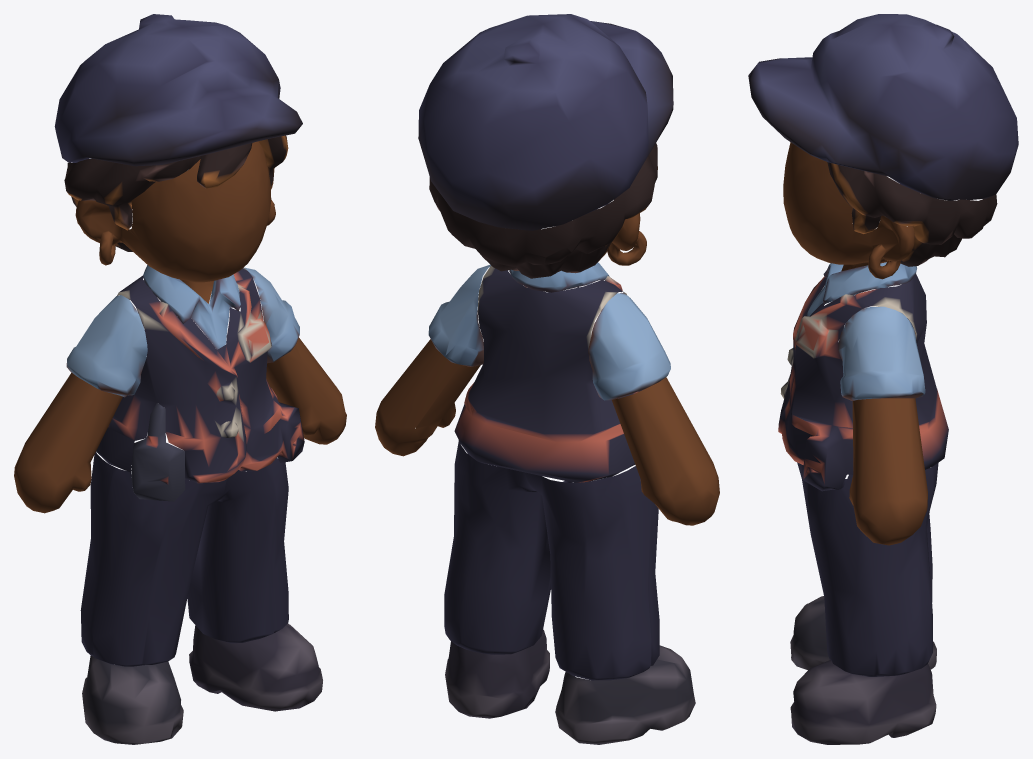
The picture shows the model from 3 angles, left to right: view 1: azimuth 30°, elevation 25°; view 2: azimuth 150°, elevation 25°; view 3: azimuth 270°, elevation 25°; orthographic projection. The views are drawn at different scales.
Parts seen in each view (by area): view 1: bottom, acc_head_0, top, head, sleeve_r, hand_r, shoe_l, shoe_r, hair, hand_l, acc_head_beard, sleeve_l; view 2: acc_head_0, bottom, top, hand_r, hair, shoe_r, hand_l, shoe_l, sleeve_r, sleeve_l, acc_head_beard, head; view 3: acc_head_0, bottom, top, hand_l, shoe_l, head, hair, sleeve_l, shoe_r, acc_head_beard.
Part boxes in pixels (x1,y1,x2,y2): bottom: (80, 452, 288, 666); acc_head_0: (54, 14, 302, 166); top: (96, 267, 304, 483); head: (75, 141, 275, 303); sleeve_r: (66, 295, 185, 501); hand_r: (14, 372, 122, 513); shoe_l: (189, 623, 322, 711); shoe_r: (82, 655, 183, 744); hair: (64, 135, 288, 251); hand_l: (266, 337, 346, 444); acc_head_beard: (143, 265, 240, 349); sleeve_l: (226, 267, 299, 363); acc_head_0: (418, 14, 673, 230); bottom: (444, 440, 659, 680); top: (454, 265, 641, 482); hand_r: (612, 377, 719, 525); hair: (429, 143, 657, 278); shoe_r: (555, 645, 695, 744); hand_l: (375, 339, 480, 456); shoe_l: (445, 629, 549, 718); sleeve_r: (588, 293, 670, 400); sleeve_l: (428, 264, 490, 366); acc_head_beard: (509, 262, 609, 292); head: (607, 213, 646, 265); acc_head_0: (748, 14, 1018, 200); bottom: (797, 462, 938, 676); top: (778, 274, 948, 491); hand_l: (849, 398, 927, 545); shoe_l: (790, 660, 936, 744); head: (783, 142, 914, 279); hair: (827, 162, 997, 266); sleeve_l: (838, 306, 925, 400); shoe_r: (790, 596, 936, 669); acc_head_beard: (806, 262, 916, 316).
Size of the model in its own units: 0.521 by 1.03 by 0.3763.
